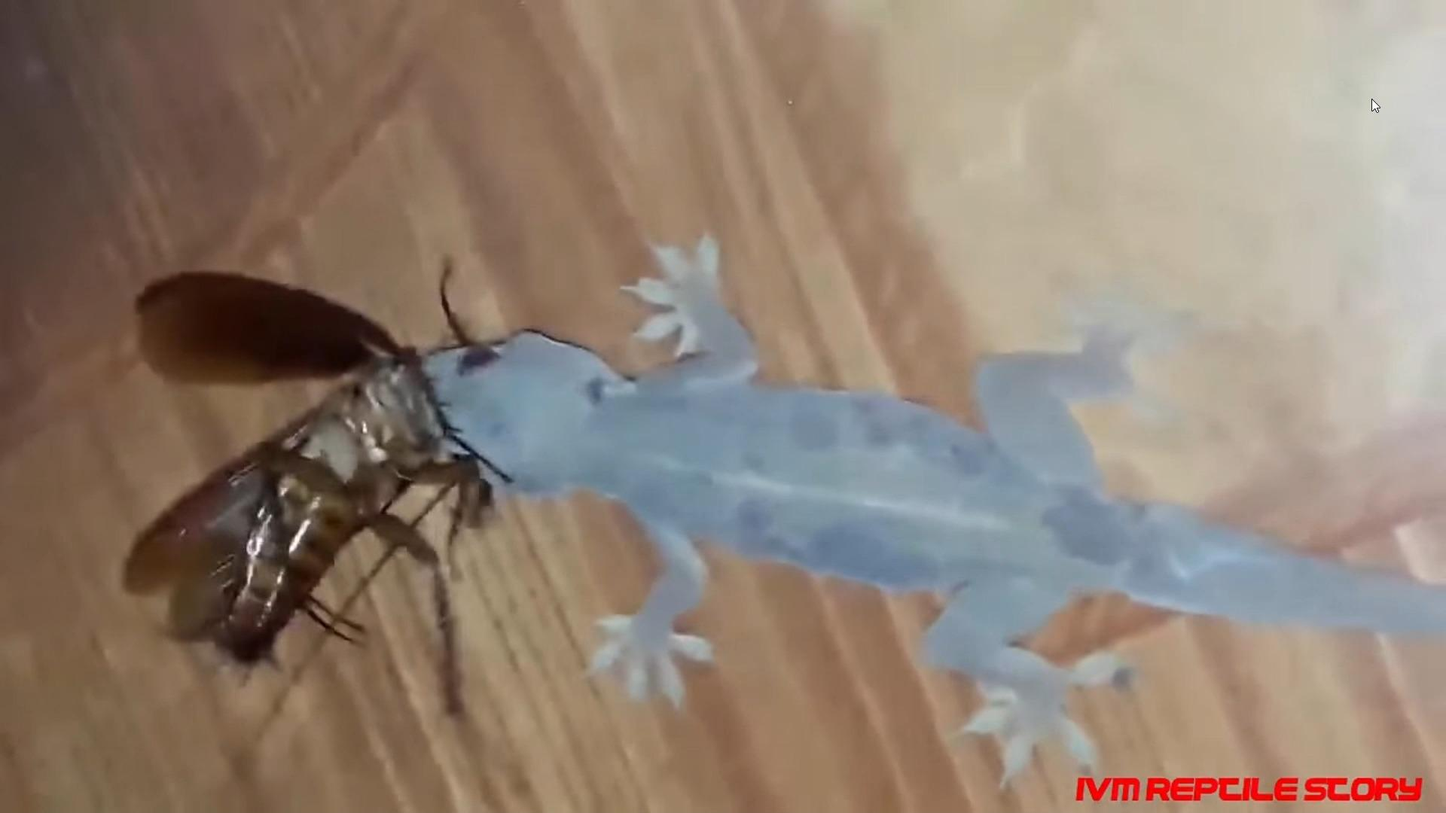cockroach: (156, 341, 436, 649)
lizard: (433, 223, 1376, 787)
